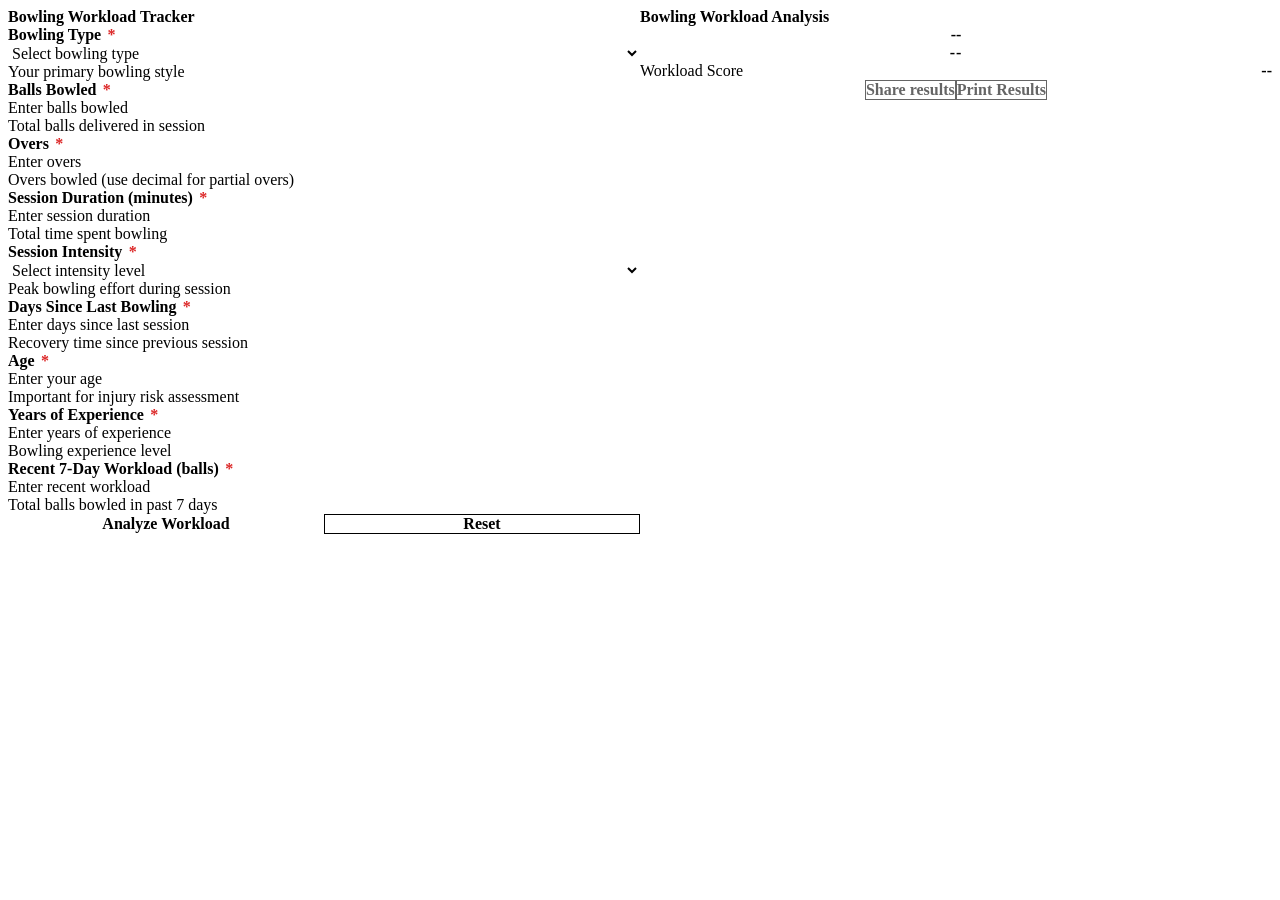
CricketBowlingWorkloadCalculator › validates with the source messages before calculating
This screenshot has width=1280, height=900.
Step 1. Click the button "Analyze Workload" → [166, 524], box top-left (8, 514), bottom-right (324, 534)
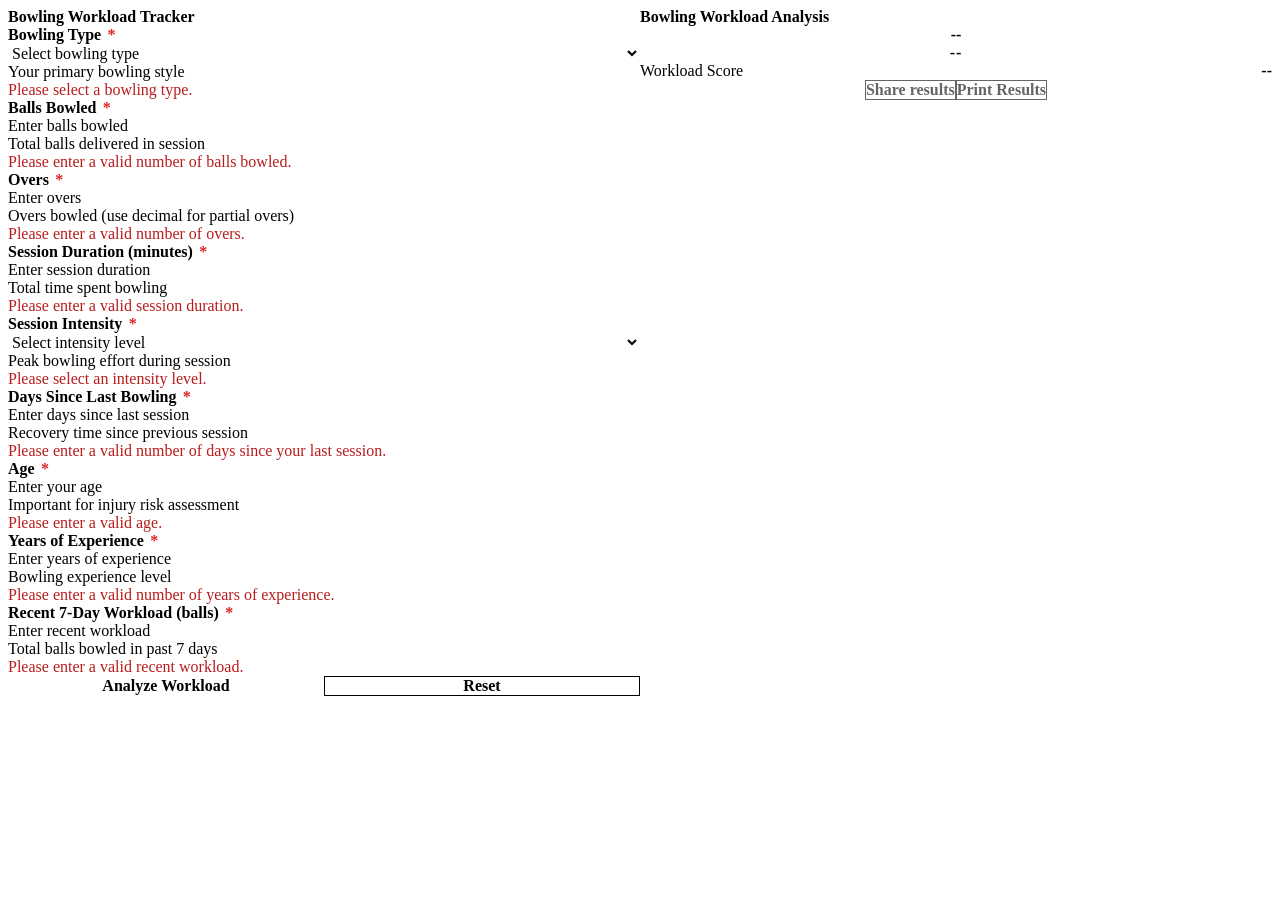
Result: the text "Please select a bowling type." is shown at top-left (8, 81), bottom-right (192, 98)
Result: the text "Please enter a valid number of balls bowled." is shown at top-left (8, 153), bottom-right (292, 170)
Result: the text "Please enter a valid number of overs." is shown at top-left (8, 225), bottom-right (245, 242)
